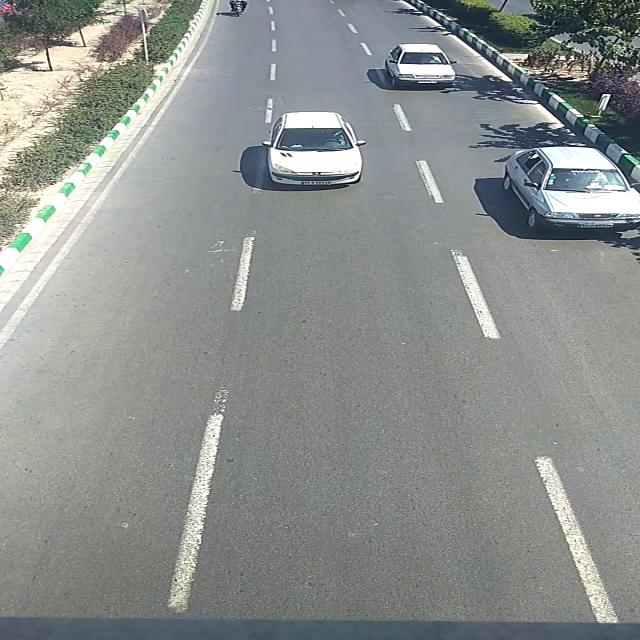car: (501, 145, 640, 233), (262, 112, 367, 188), (386, 43, 458, 84)
